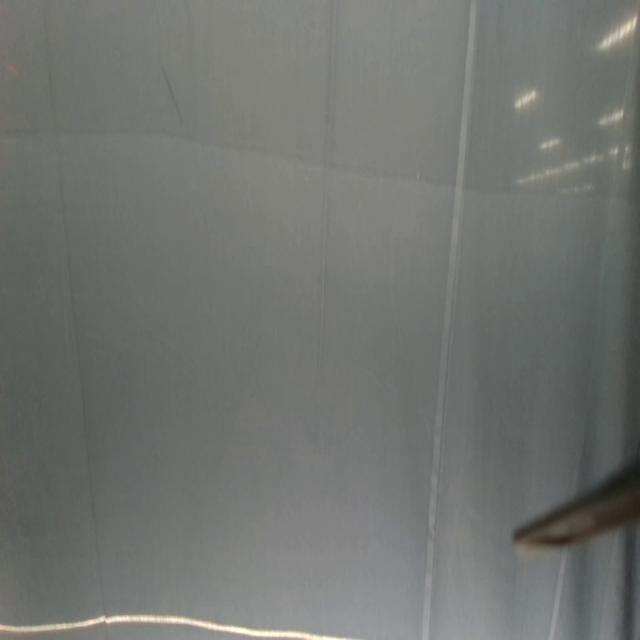color bleeding: (0, 0, 640, 202)
crease: (40, 16, 106, 621), (422, 0, 479, 638), (319, 0, 338, 378), (158, 64, 184, 126)
